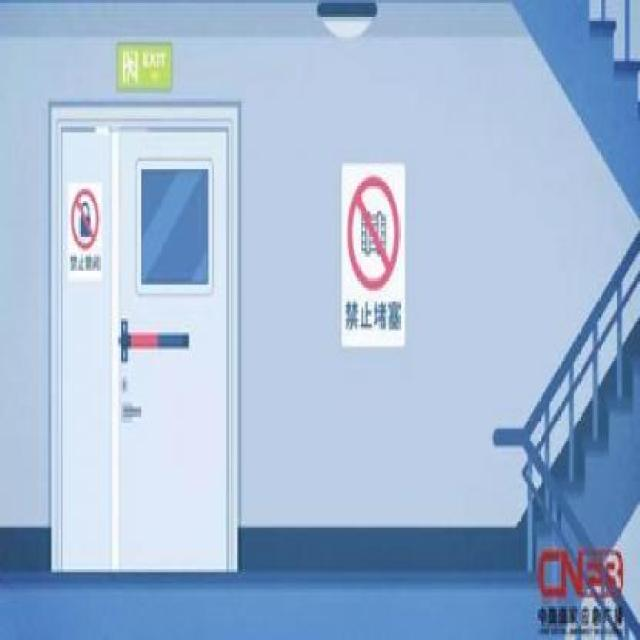exit_sign: (119, 38, 176, 97)
